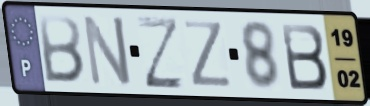8: (238, 17, 284, 94)
B: (36, 12, 87, 86), (278, 21, 331, 92)
N: (80, 12, 134, 89)
Z: (134, 14, 187, 91), (181, 18, 235, 89)
